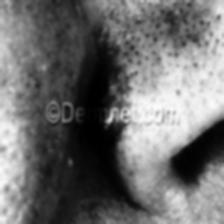Potentially Malignant Skin Tumors: (69, 128, 125, 174)
